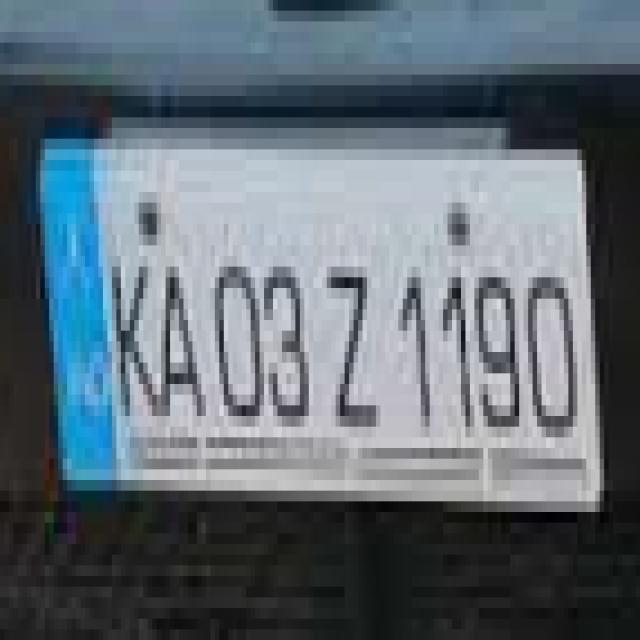0: (209, 237, 268, 442), (521, 258, 584, 447)
1: (433, 258, 483, 447), (391, 258, 441, 445)
3: (258, 252, 320, 430)
9: (468, 256, 526, 442)
A: (159, 240, 212, 427)
K: (108, 248, 159, 432)
Z: (319, 256, 385, 430)
